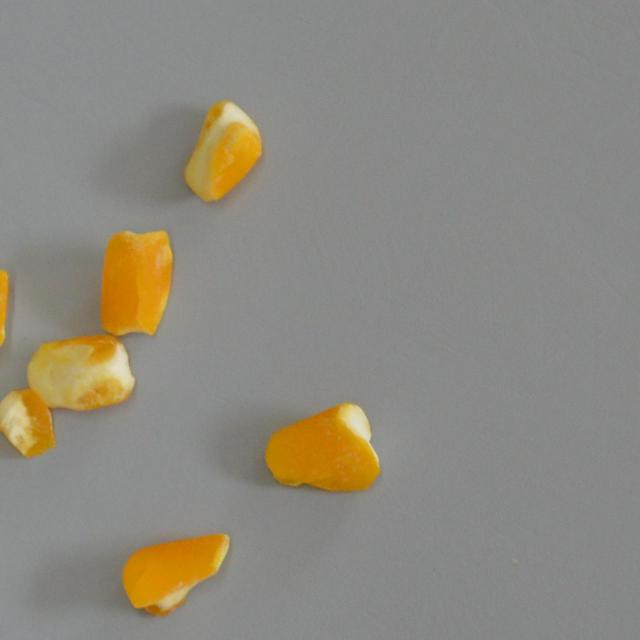agrietado: (100, 228, 172, 336)
estandar: (263, 401, 381, 492), (120, 532, 230, 617), (0, 388, 54, 457)
pelicula: (25, 332, 134, 412), (184, 99, 262, 204), (0, 266, 8, 390)
